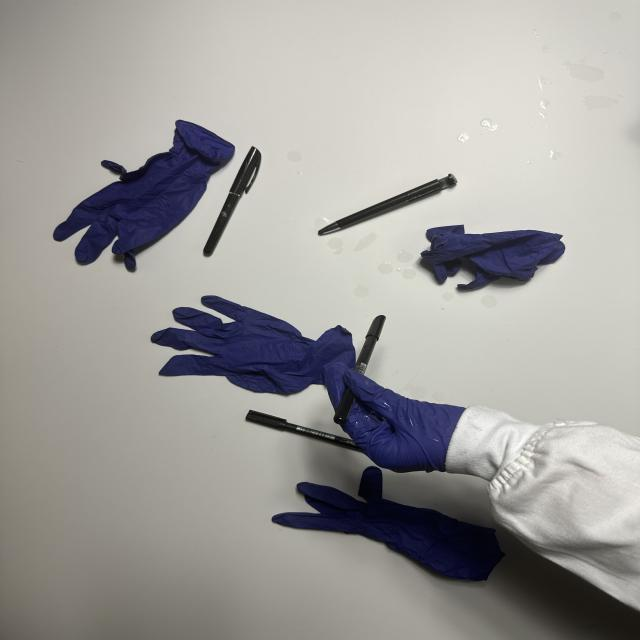gloves_contaminated: (325, 365, 465, 472)
